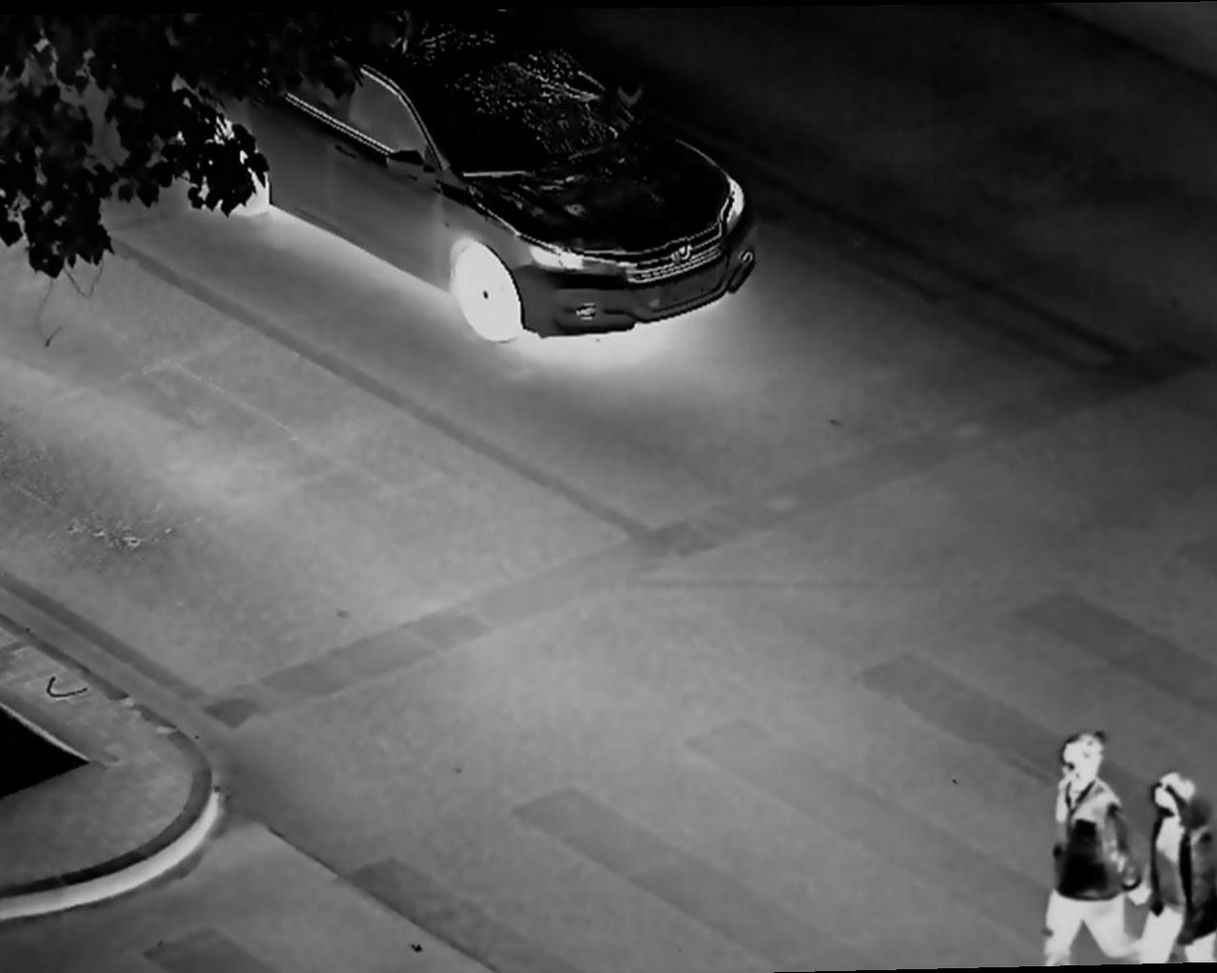person: (1047, 729, 1129, 973), (1130, 771, 1217, 967)
